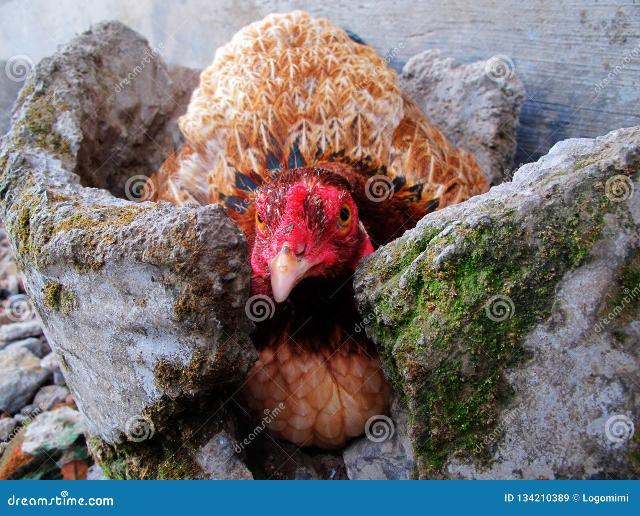Chicken: (139, 5, 489, 447)
